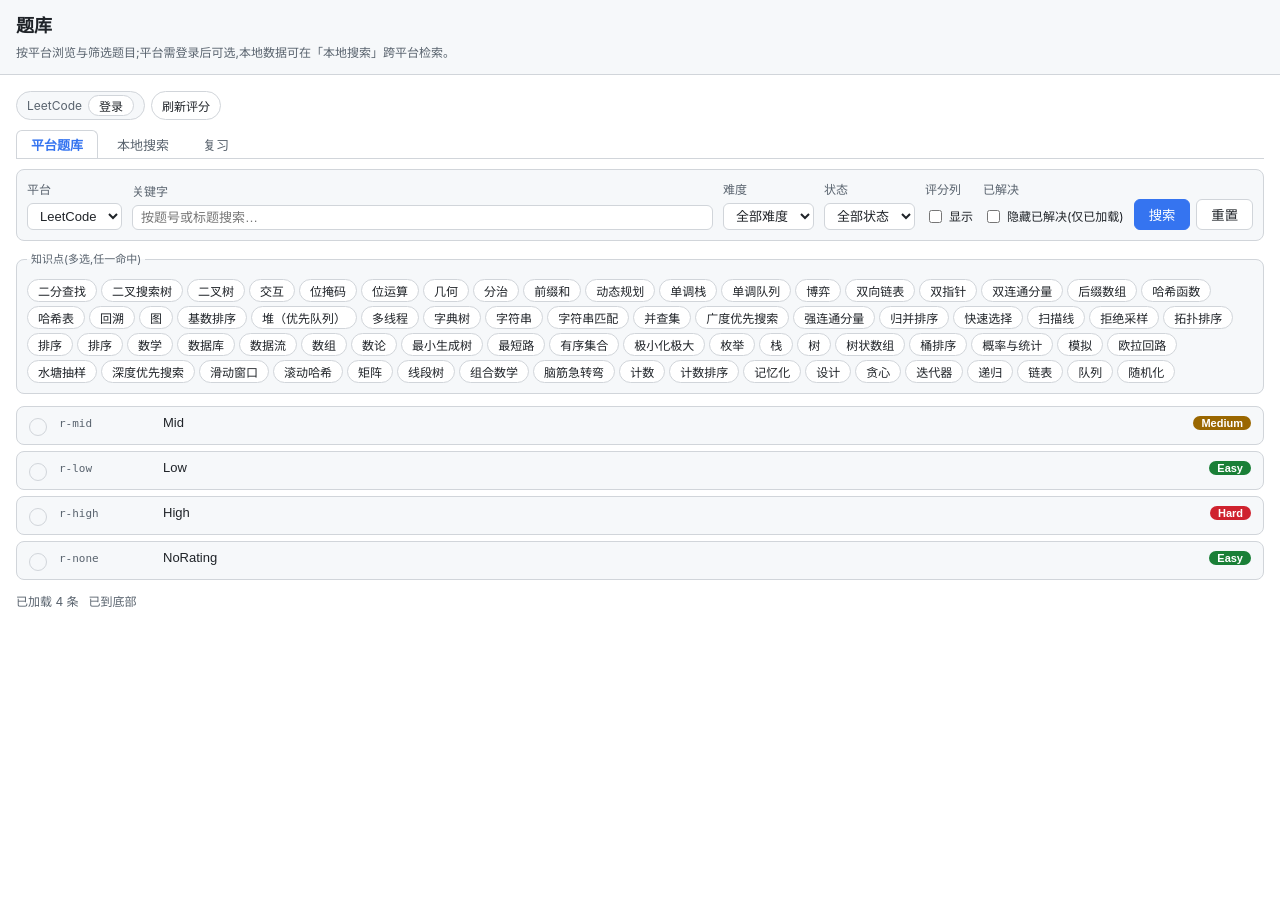
Test: problems page rating (WP63) › hides the rating column when the stored visibility flag is off, and toggling persists back on
The width and height of the screenshot is (1280, 900).
Click the checkbox labelled "显示": (935, 217) 929,210 -> 942,223
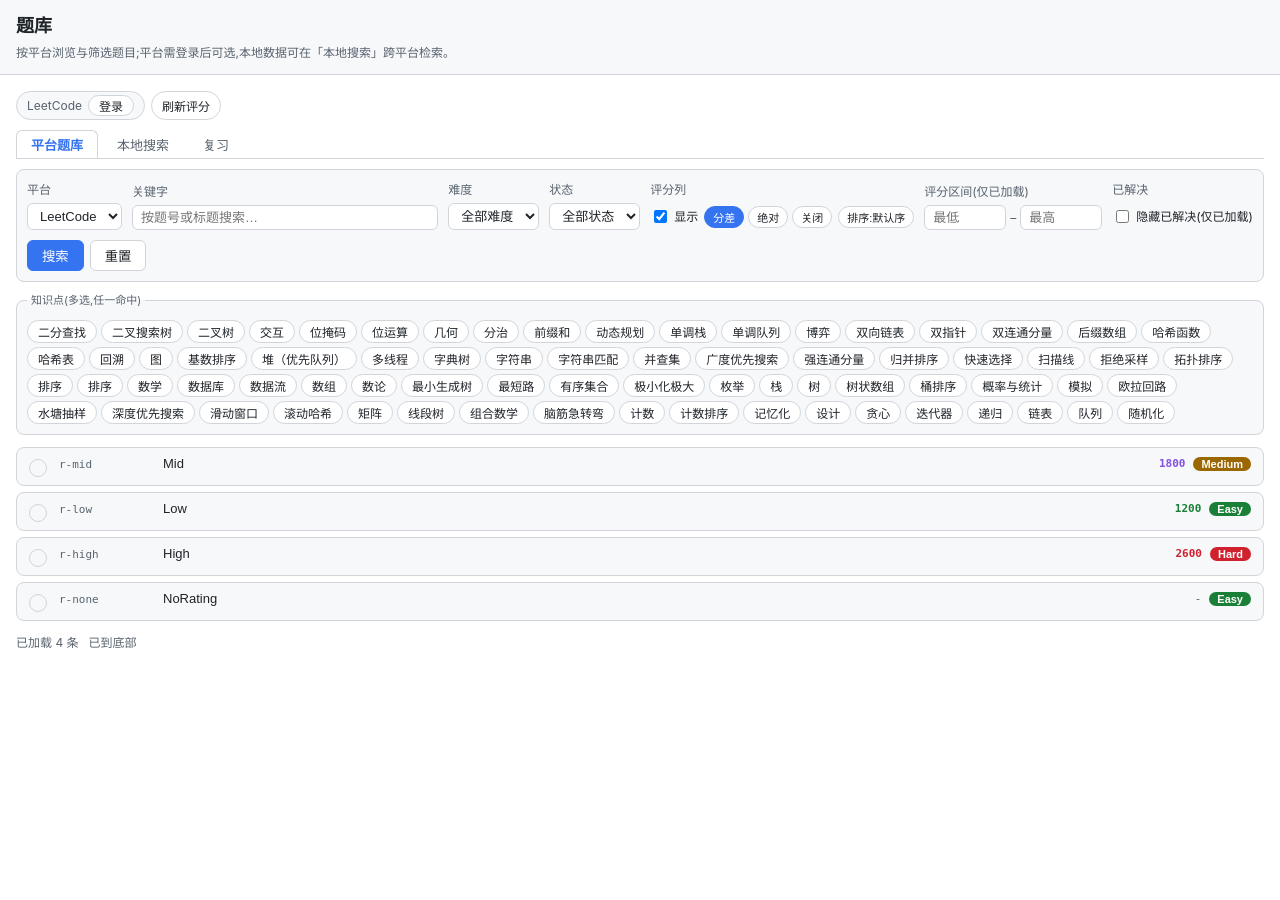
Now the number of elements with class "rating-num" is 4, box 1155,457 -> 1185,470; 1171,502 -> 1201,515; 1172,547 -> 1202,560; 1195,592 -> 1201,605
